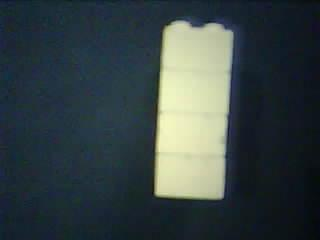lego: (152, 19, 236, 202)
